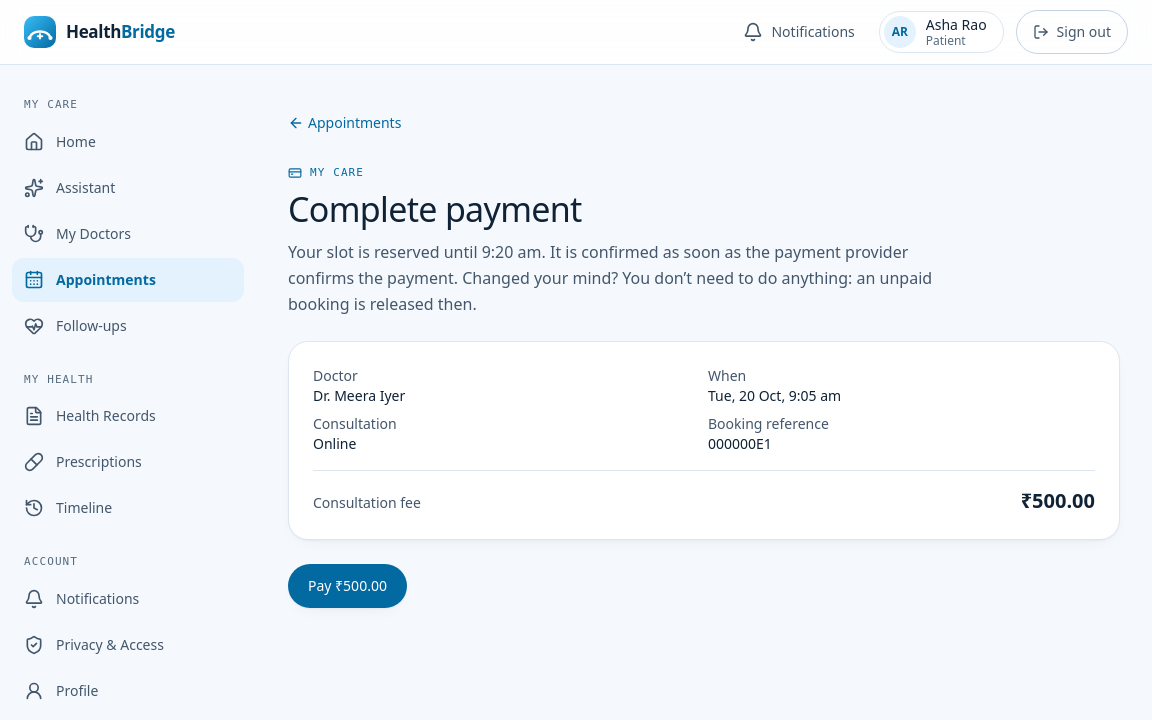
it: payment › a failed payment offers a retry while the slot is held
Step 1. Click the button "Pay ₹500.00" → (347, 586), box x1=288 y1=564 x2=407 y2=608
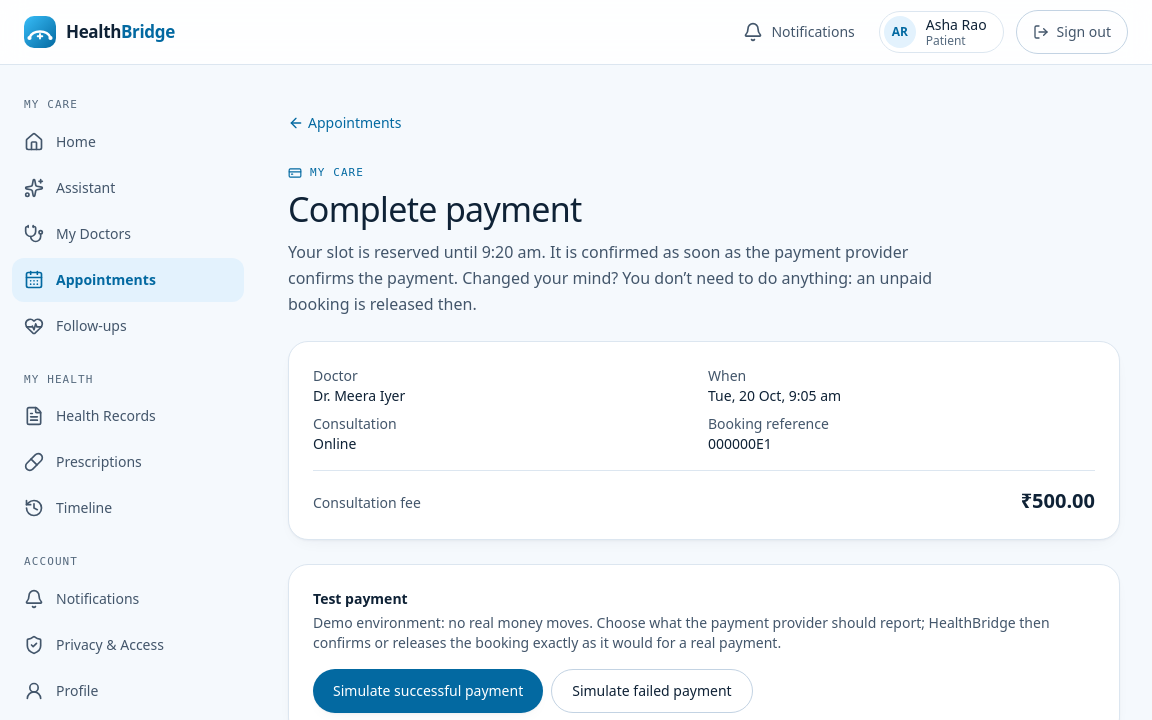
Step 2. Click the button "Simulate failed payment" → (652, 691), box x1=551 y1=669 x2=753 y2=713
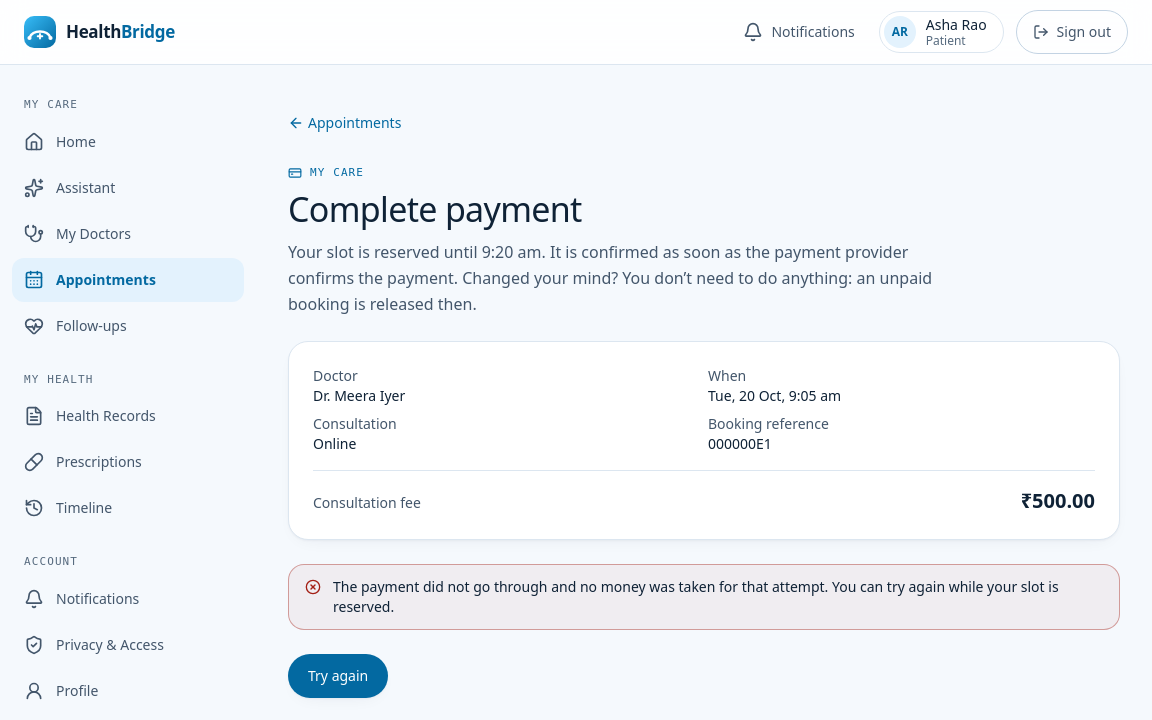
Check: the text "did not go through" is shown, box x1=333 y1=577 x2=1059 y2=616
Step 3. Click the button "Try again" → (338, 676), box x1=288 y1=654 x2=388 y2=698
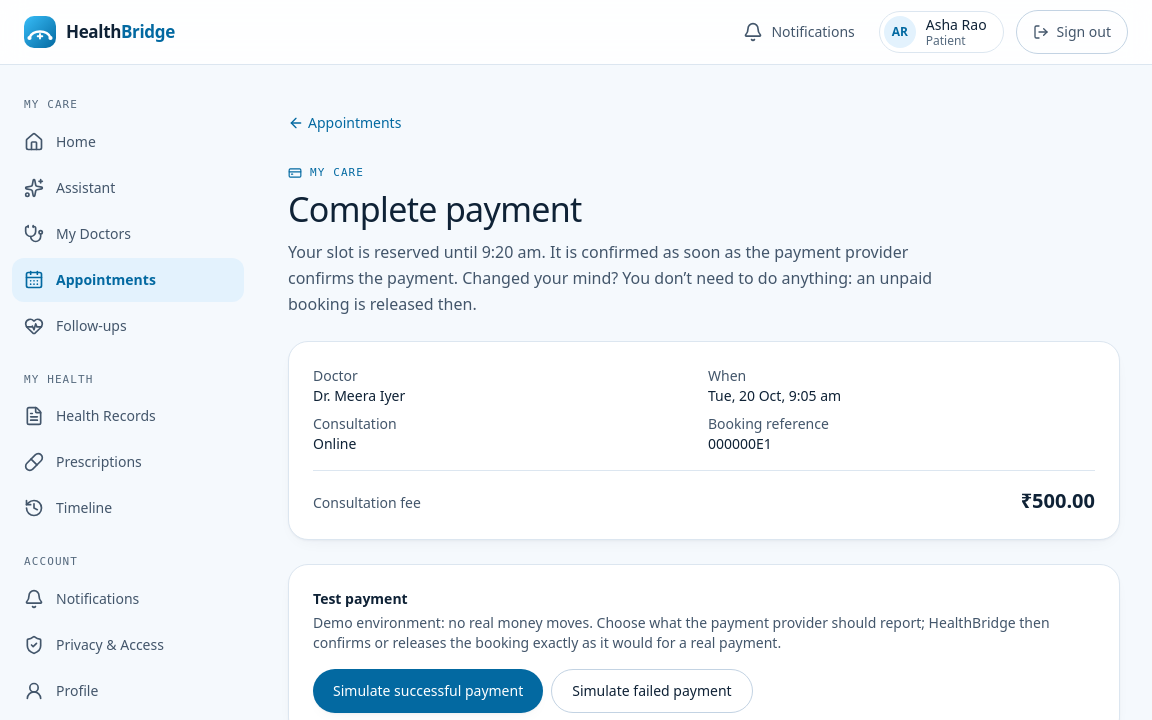
Check: the button "Simulate successful payment" is shown, box x1=313 y1=669 x2=543 y2=713
